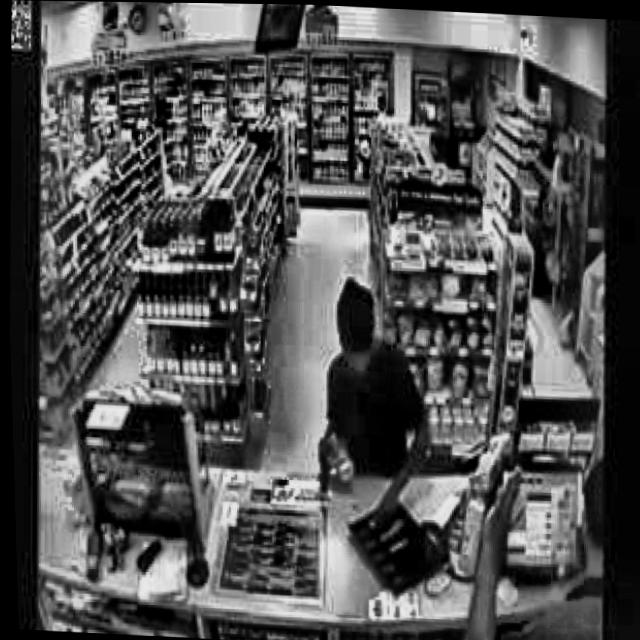robbery: (306, 273, 435, 539), (451, 448, 602, 640)
